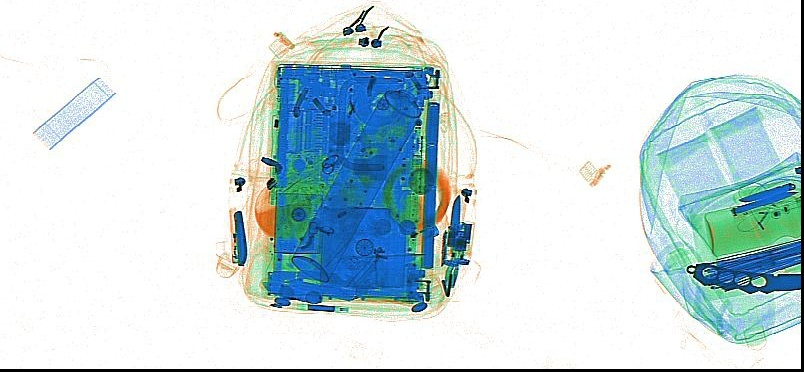knife: (686, 261, 799, 294), (729, 189, 798, 215), (445, 189, 467, 248), (738, 181, 796, 203), (232, 208, 248, 266)
lighter: (226, 205, 236, 264)
pressure: (290, 87, 422, 283)
